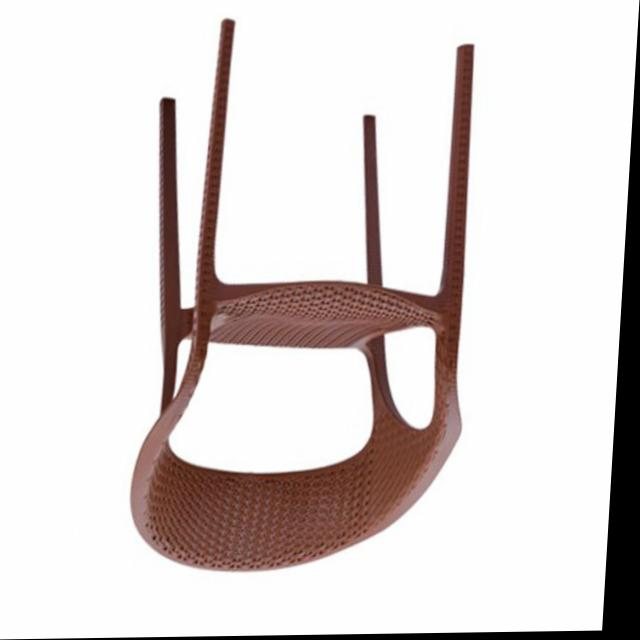Chair: (132, 15, 486, 576)
